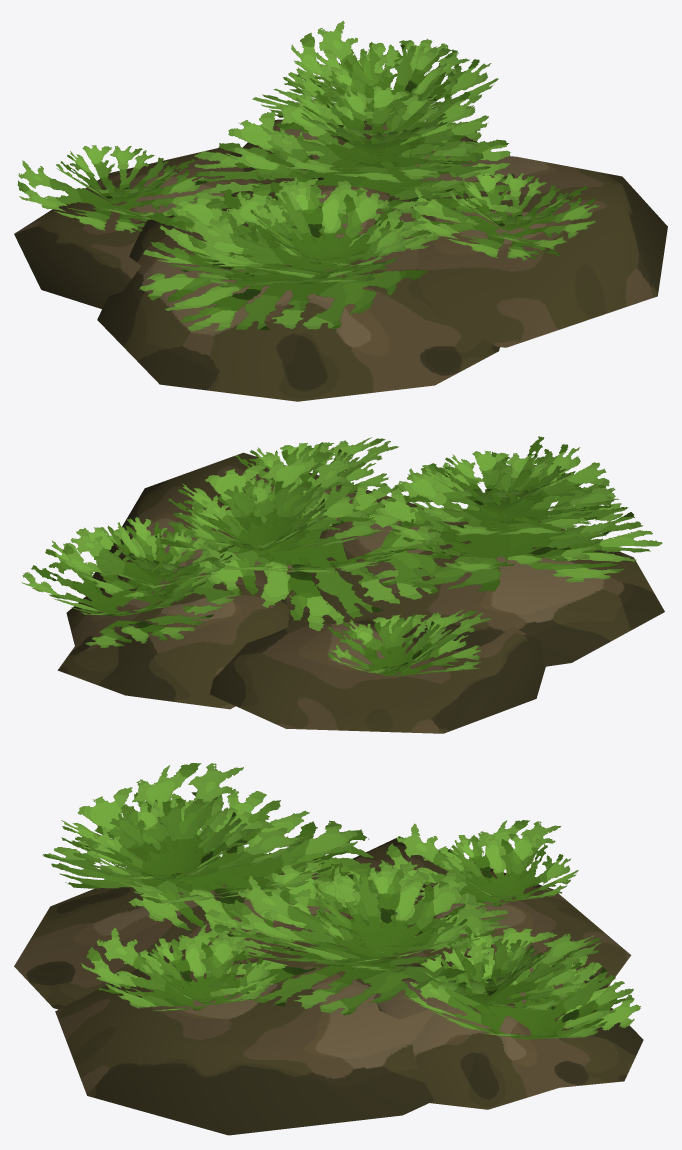
The model's file is Elkhorn Cora 6_preview_3DS_simplified.glb.
The picture shows the model from 3 angles, top to bottom: view 1: azimuth 30°, elevation 25°; view 2: azimuth 150°, elevation 25°; view 3: azimuth 270°, elevation 25°; orthographic projection. The views are drawn at different scales.
Visible parts, largest first — view 1: Marine Park Empire model; view 2: Marine Park Empire model; view 3: Marine Park Empire model.
Part boxes in pixels (<box>): Marine Park Empire model: <box>14,21,667,401</box>; Marine Park Empire model: <box>21,436,664,733</box>; Marine Park Empire model: <box>14,763,643,1135</box>.
Size of the model in its own units: 196 by 49.85 by 200.
Materials: 2 (2 with a texture image).
